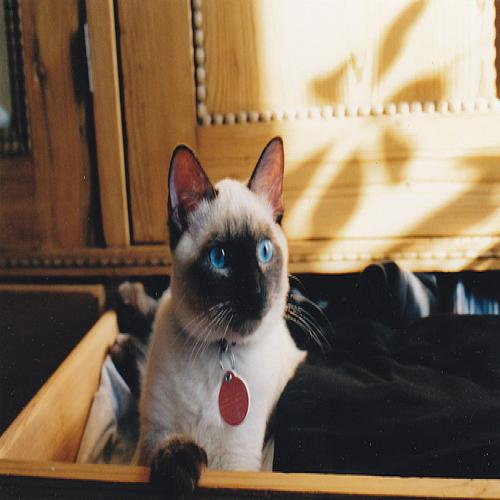siamese: (159, 135, 303, 357)
